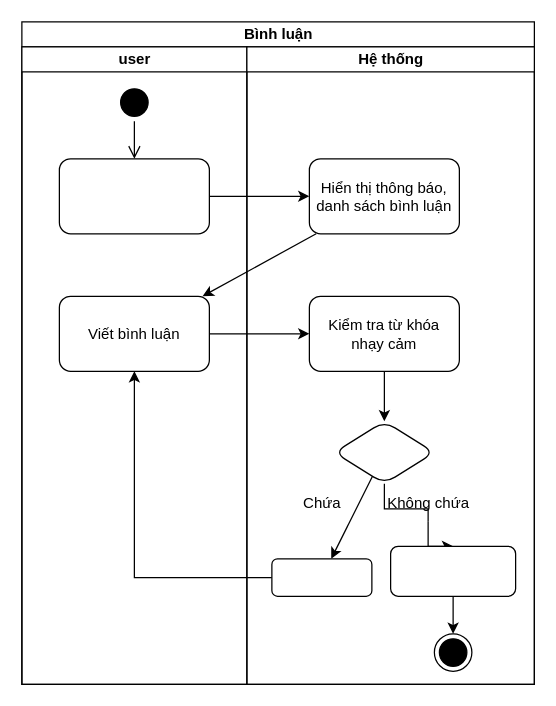
Some shapes in this 556 by 706 pixel diagram are drawn without their labels. The shapes that lost their labels are listed below. From the top down, each one's centre as x and y in pixels, then its label:
At [133,196]: "Xem Thông báo".
At [321,577]: "Báo lỗi".
At [452,570]: "Lưu bình luận và hiển thị kết quả".
